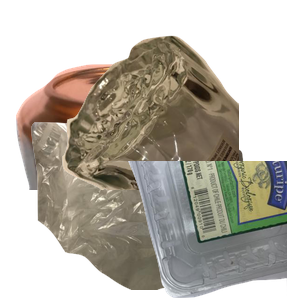glass: (60, 33, 300, 213)
metal: (13, 61, 240, 241)
plastic: (60, 161, 300, 300)
trash: (29, 120, 265, 300)
